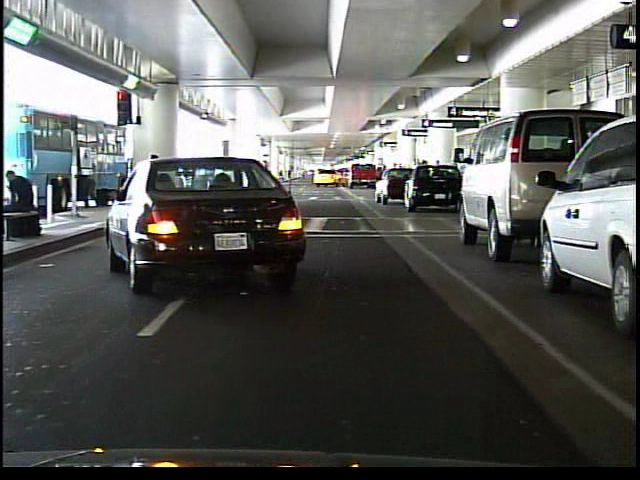person: (1, 166, 40, 245)
